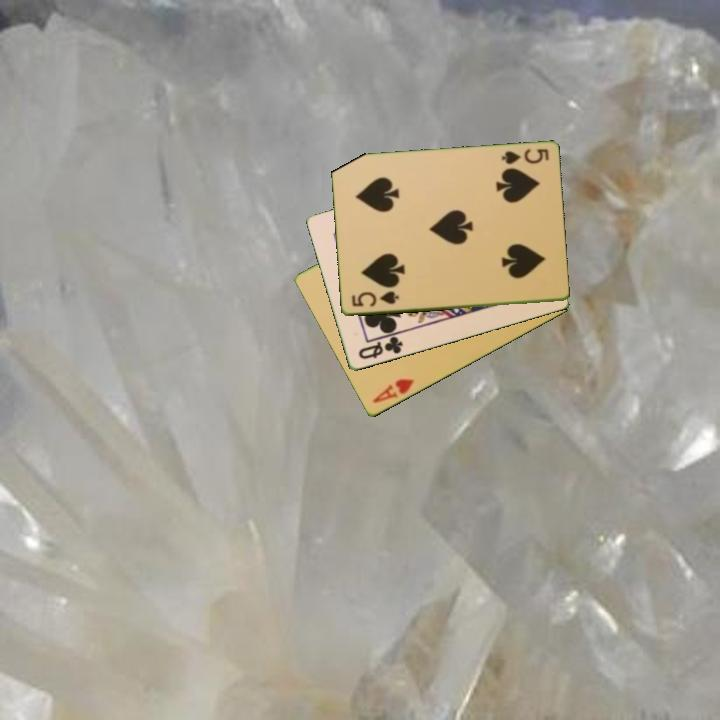5s: (498, 145, 552, 168), (348, 288, 402, 310)
Ah: (369, 375, 417, 406)
Qc: (355, 333, 406, 363)
